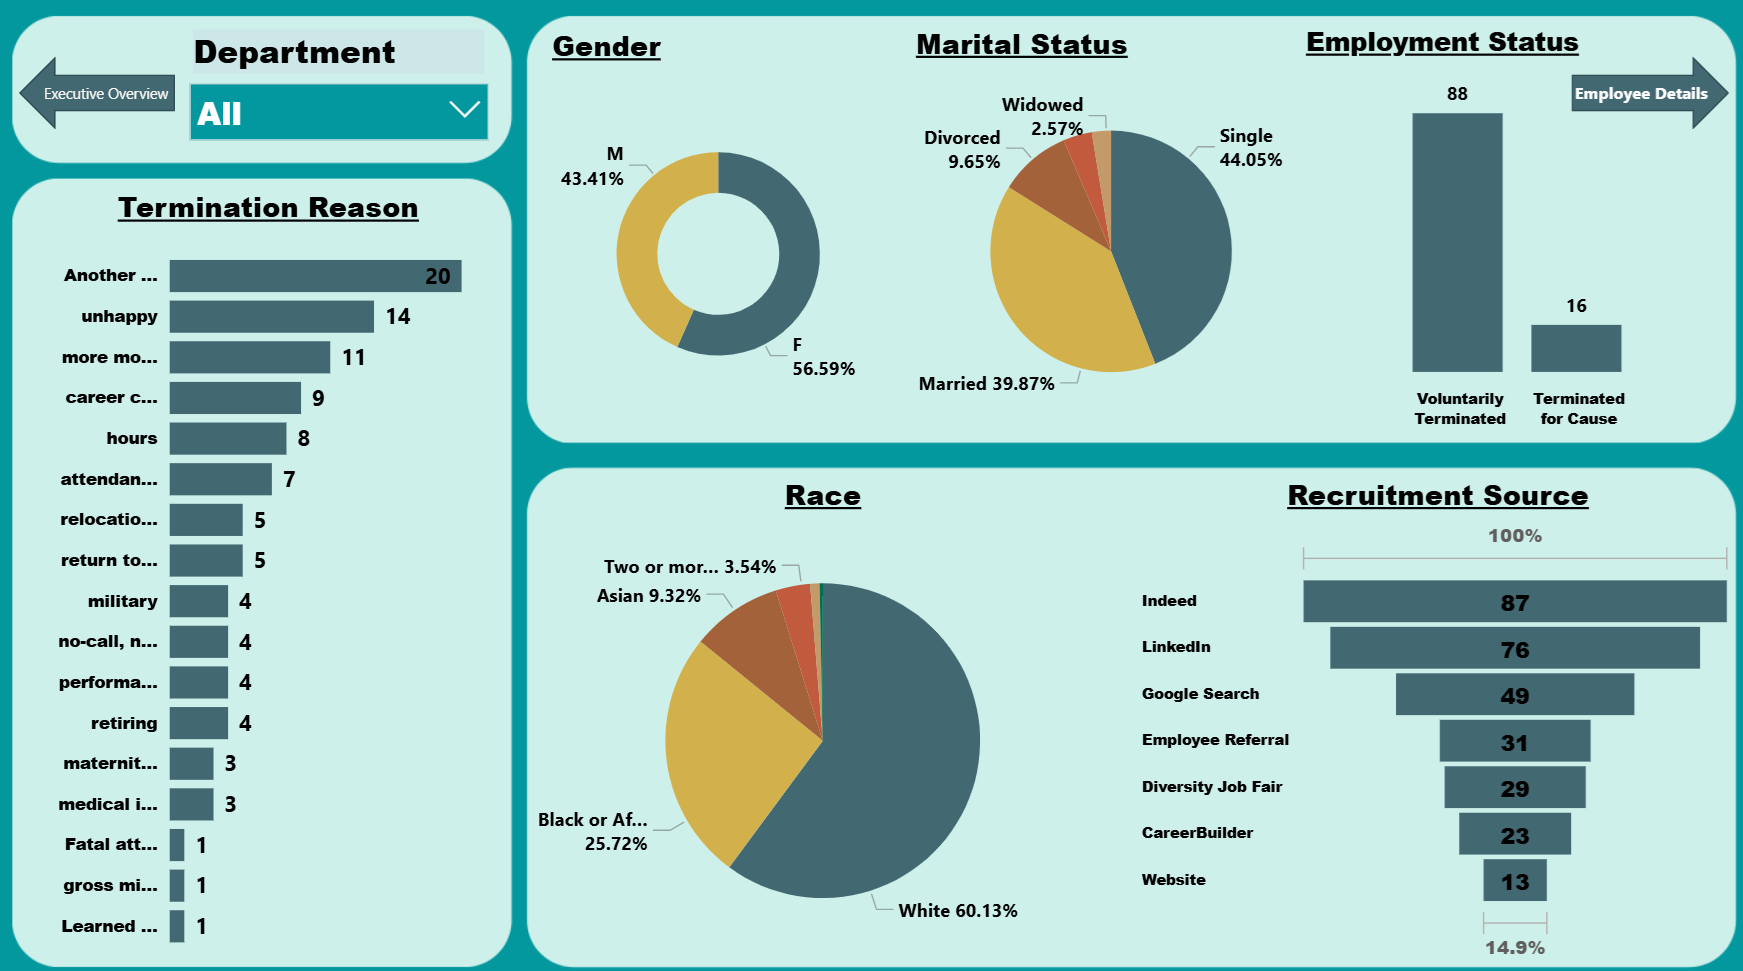

What the dashboard file says about the page in this screenshot:
{"tool":"powerbi","page":{"name":"Demographics & Reasons Analysis","canvas":[1280,720],"ordinal":1},"visuals":[{"type":"slicer","fields":{"Values":["HRDataset.Department"]},"box":[131.5,16.9,237.7,92.9],"z":0},{"type":"donutChart","title":"Gender","fields":{"Y":["CountNonNull(HRDataset.EmpID)"],"Category":["HRDataset.Sex"]},"box":[400.5,16.9,252.1,306.4],"z":1000},{"type":"pieChart","title":"Marital Status","fields":{"Y":["CountNonNull(HRDataset.EmpID)"],"Category":["HRDataset.MaritalDesc"]},"box":[665.9,16.9,294.4,304.1],"z":2000},{"type":"columnChart","title":" Employment Status","fields":{"Category":["HRDataset.EmploymentStatus"],"Y":["CountNonNull(HRDataset.EmpID)"]},"box":[949.3,16.9,321,304.1],"z":3000},{"type":"barChart","title":"Termination Reason","fields":{"Category":["HRDataset.TermReason"],"Y":["CountNonNull(HRDataset.EmpID)"]},"box":[30.2,136.3,339,567],"z":4000},{"type":"pieChart","title":" Race ","fields":{"Category":["HRDataset.RaceDesc"],"Y":["CountNonNull(HRDataset.EmpID)"]},"box":[389.7,336.6,425.9,368],"z":5000,"group":"g1"},{"type":"funnel","title":" Recruitment Source","fields":{"Category":["HRDataset.RecruitmentSource"],"Y":["CountNonNull(HRDataset.EmpID)"]},"box":[815.6,336.6,454.8,368],"z":6000,"group":"g1"},{"type":"shape","box":[1147.3,42.2,114.6,53.1],"z":7000},{"type":"shape","box":[18.1,42.2,113.4,53.1],"z":8000},{"type":"group","id":"g1","title":"Group 1","box":[389.7,336.6,880.7,368],"z":8001}]}

Visuals, with their boxes in screenshot pixels (x1, y1, x2, y2), scaled from the page's 1280x720 canvas onto the 1743x971 screenshot:
slicer - HRDataset.Department: 179, 23, 503, 148
"Gender" donutChart: 545, 23, 889, 436
"Marital Status" pieChart: 907, 23, 1308, 433
" Employment Status" columnChart: 1293, 23, 1730, 433
"Termination Reason" barChart: 41, 184, 503, 948
" Race " pieChart: 531, 454, 1111, 950
" Recruitment Source" funnel: 1111, 454, 1730, 950
shape: 1562, 57, 1718, 129
shape: 25, 57, 179, 129
"Group 1" group: 531, 454, 1730, 950
